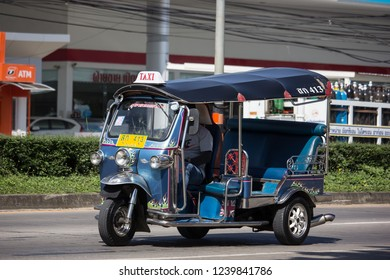threewheel: (89, 67, 329, 246)
